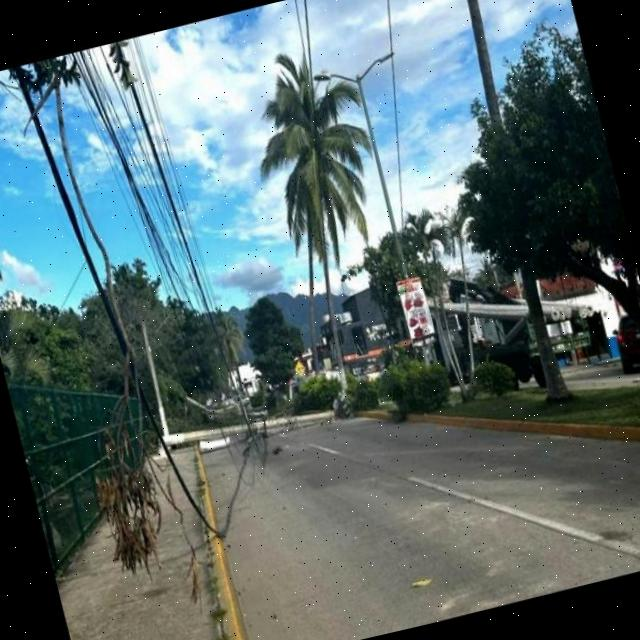Broken Pole: (139, 319, 355, 445)
